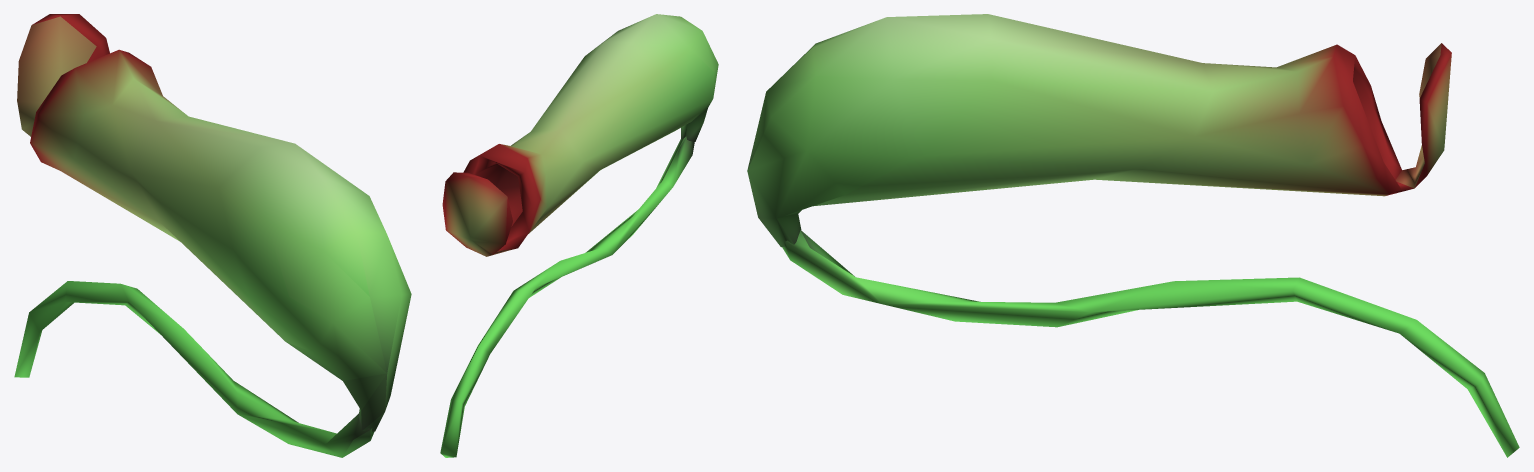
Rendered from PitcherPlant1.fbx.
3 renders of one model, left to right at view 1: azimuth 30°, elevation 25°; view 2: azimuth 150°, elevation 25°; view 3: azimuth 270°, elevation 25°, orthographic. The views are drawn at different scales.
Parts seen in each view (by area): view 1: PitcherPlant; view 2: PitcherPlant; view 3: PitcherPlant.
Boxes of the visible parts, x1,y1,x2,y2 form: PitcherPlant: (14,14,411,457); PitcherPlant: (440,14,718,457); PitcherPlant: (747,14,1519,457).
Size of the model in its own units: 188 by 581 by 928.
